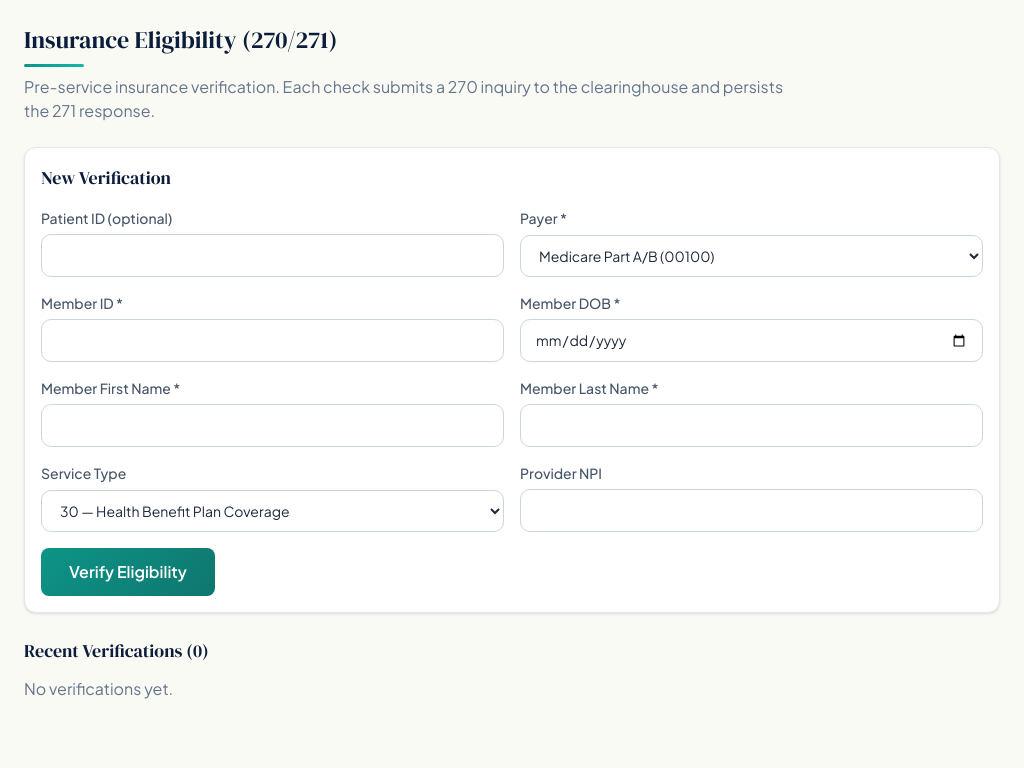
Test: EligibilityPage › shows Not Eligible badge when result is false
Type "BAD" into the field labelled "Member ID *" at {"x": 272, "y": 340}, box left=41, top=319, right=504, bottom=362
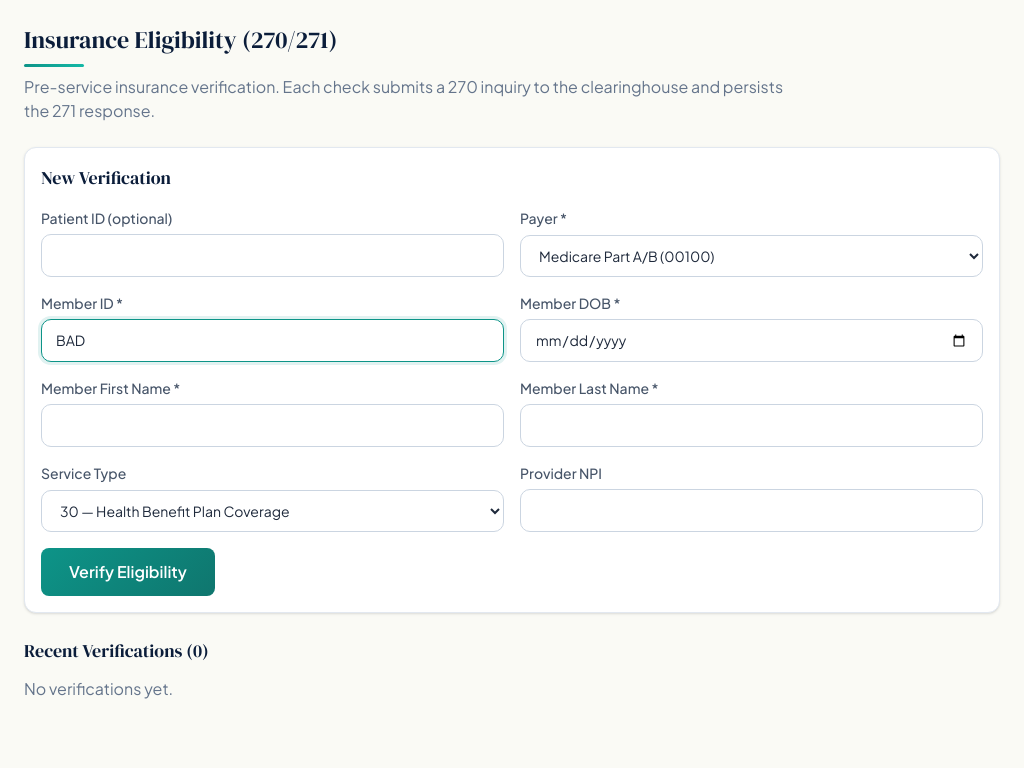
Type "1940-03-14" into the date field labelled "Member DOB *" at {"x": 752, "y": 340}, box left=520, top=319, right=983, bottom=362
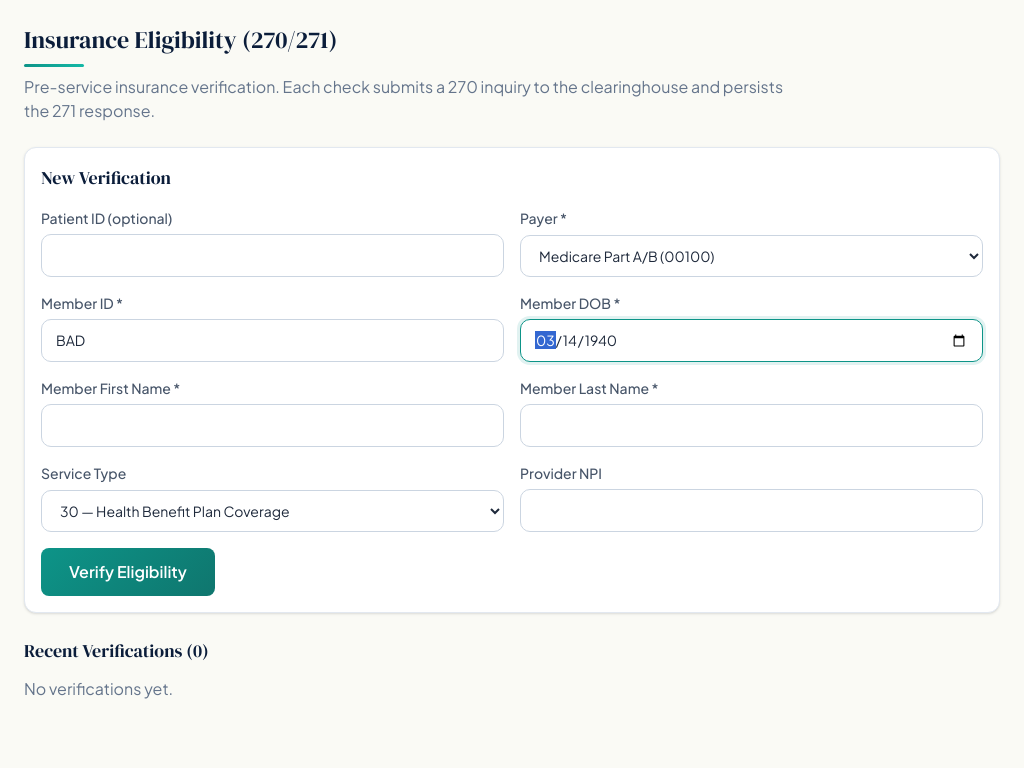
Type "A" into the field labelled "Member First Name *" at {"x": 272, "y": 426}, box left=41, top=404, right=504, bottom=447
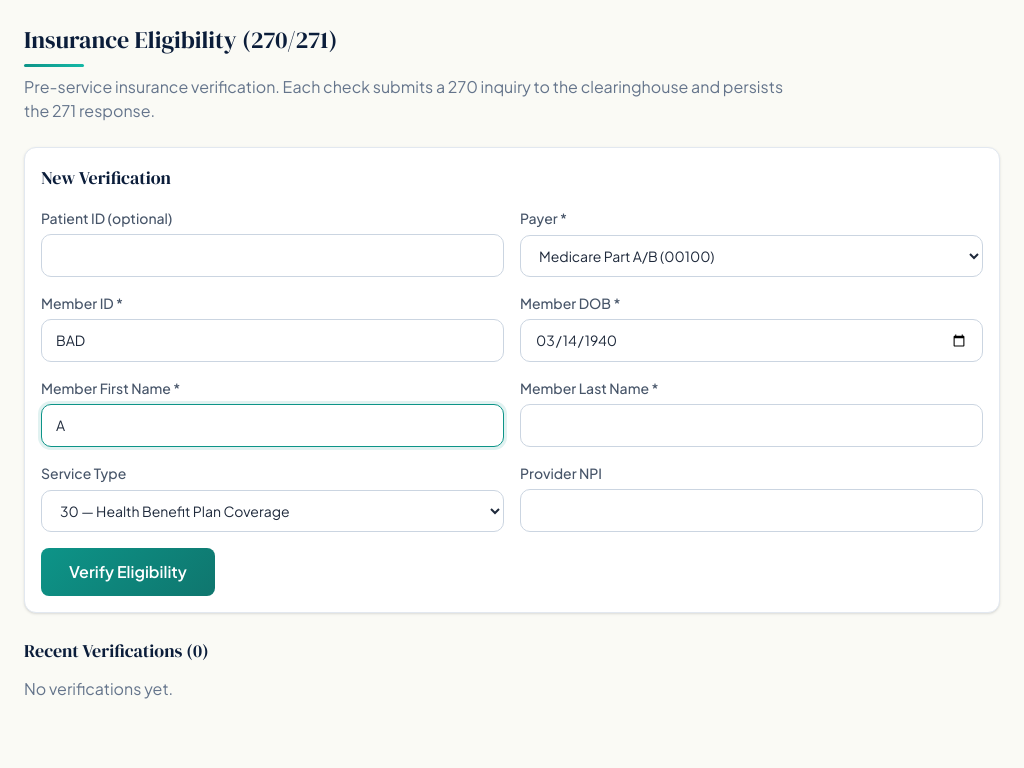
Type "B" into the field labelled "Member Last Name *" at {"x": 752, "y": 426}, box left=520, top=404, right=983, bottom=447
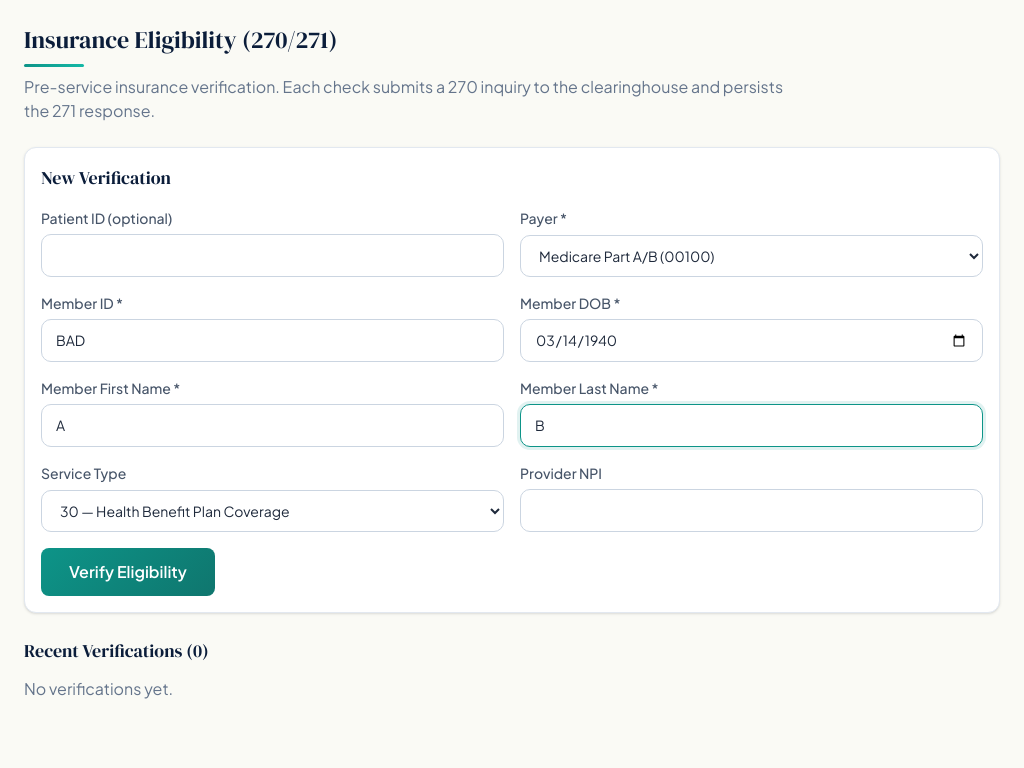
Click the button "Verify Eligibility" at {"x": 128, "y": 572}, box left=41, top=548, right=215, bottom=596
(page scrolled)
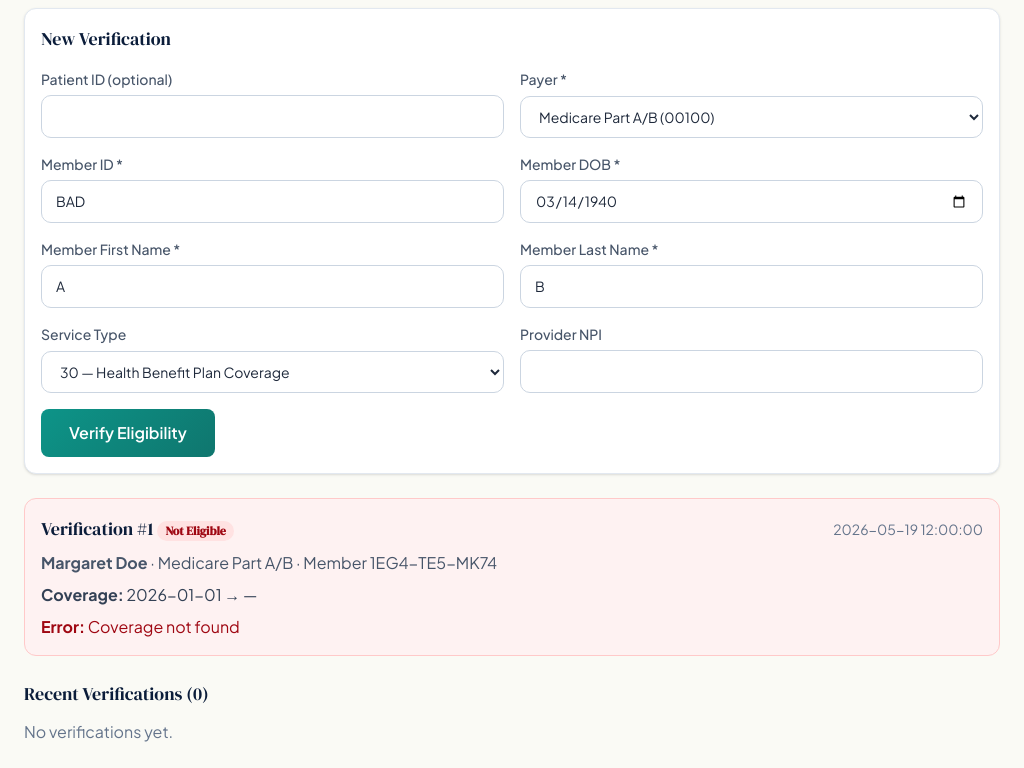
expect the text "Error: Coverage not found" is shown: met, box left=41, top=616, right=240, bottom=637
